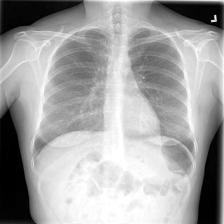normal: (34, 24, 196, 184)
